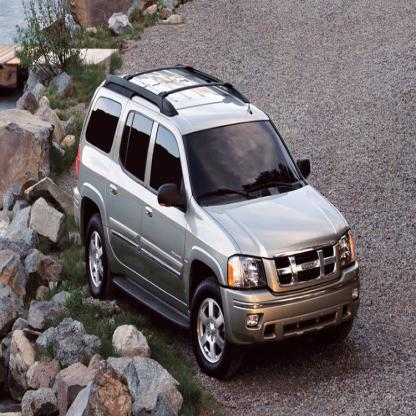car: (72, 66, 362, 374)
